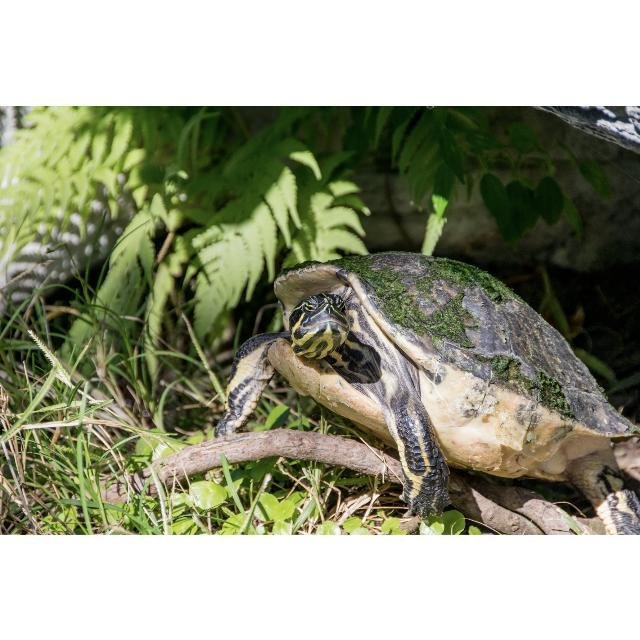turtle: (216, 249, 635, 533)
